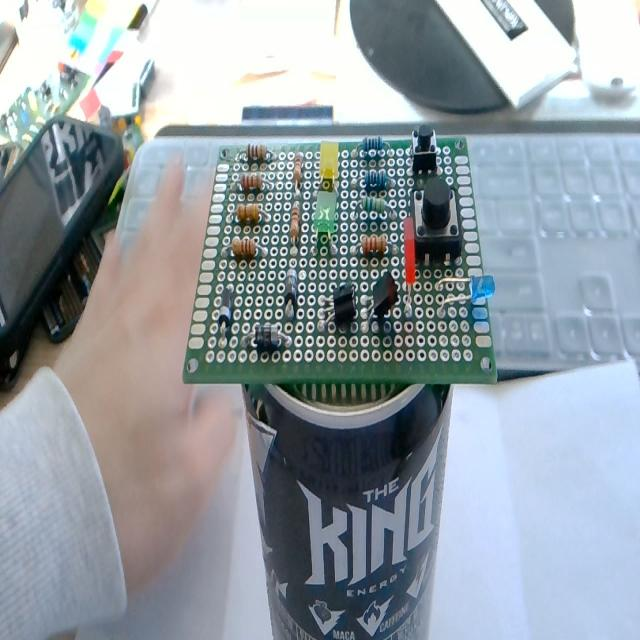diode: (245, 324, 292, 352), (283, 267, 298, 315), (218, 285, 234, 328)
led: (424, 270, 494, 307), (313, 192, 339, 256), (312, 141, 344, 191), (403, 219, 417, 320)
resistor: (292, 153, 305, 245), (354, 136, 393, 161), (354, 172, 394, 194), (360, 196, 396, 220), (228, 240, 266, 260), (362, 234, 386, 256), (237, 203, 260, 223), (290, 201, 300, 243), (241, 174, 263, 192), (247, 143, 267, 162), (293, 153, 303, 184)
switch: (413, 179, 460, 263), (411, 125, 438, 175)
transistor: (360, 271, 396, 332), (316, 280, 356, 328)
